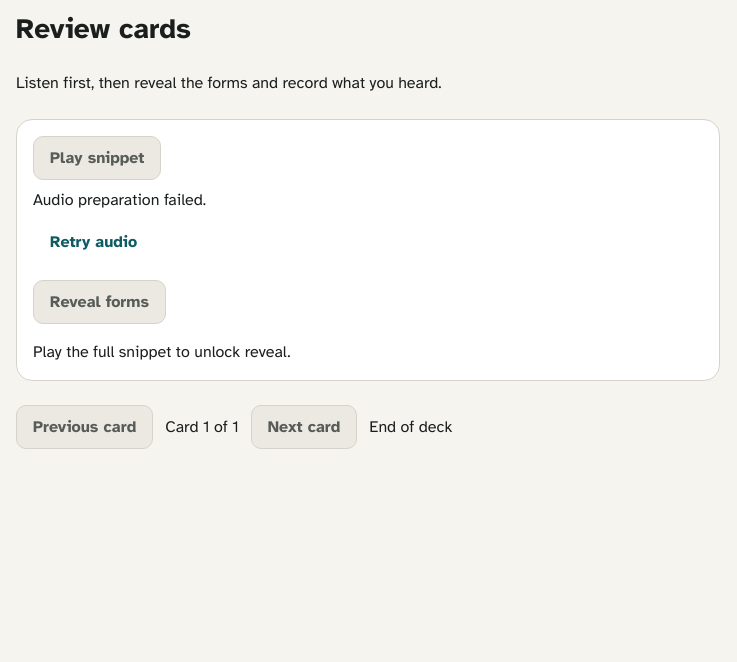
handles failed audio without exposing forms
The image size is (737, 662).
Expected: the button "Play snippet" is disabled, [33,136,161,180]
What coordinates should you click on to do the following:
click the button "Retry audio"
I would click on:
 (94, 242)
Its box is [33,220,154,264].
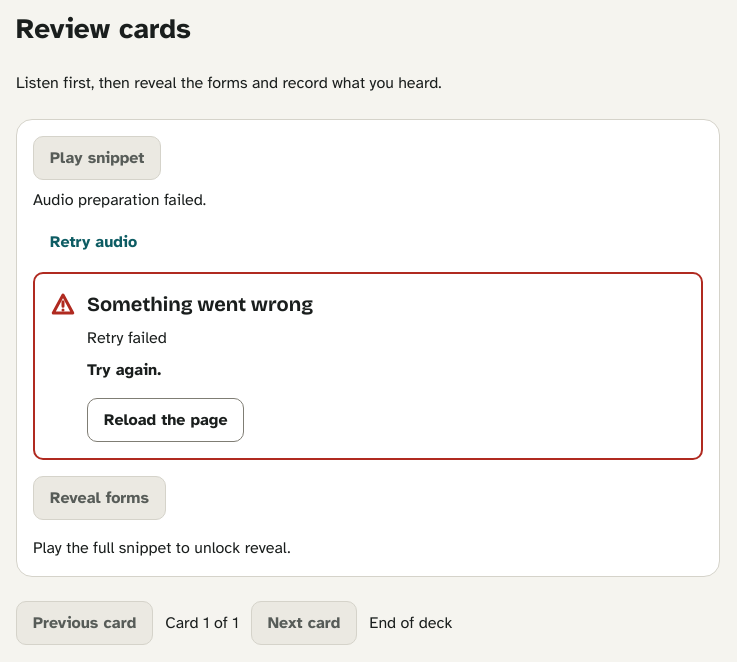
Expected: the message "Something went wrong Retry failed Try again. Reload the page" is shown, [33,272,703,460]
